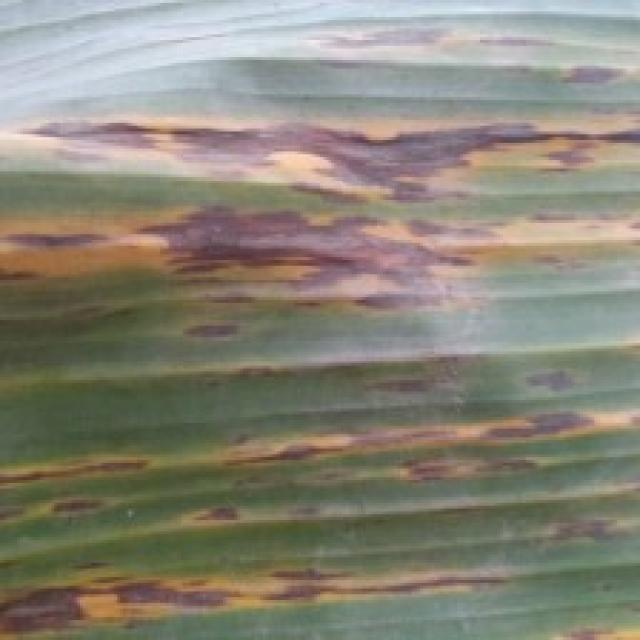Early_leaf_spot: (0, 394, 640, 640), (0, 162, 640, 333), (0, 90, 640, 234), (191, 317, 640, 416), (294, 11, 640, 106)
